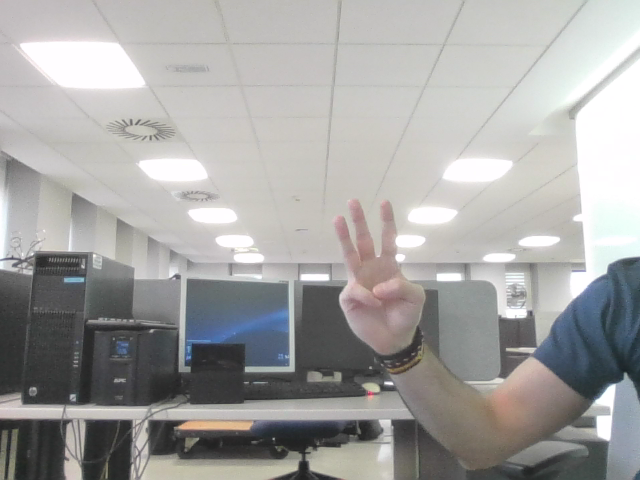3Dedos: (341, 208, 414, 315)
